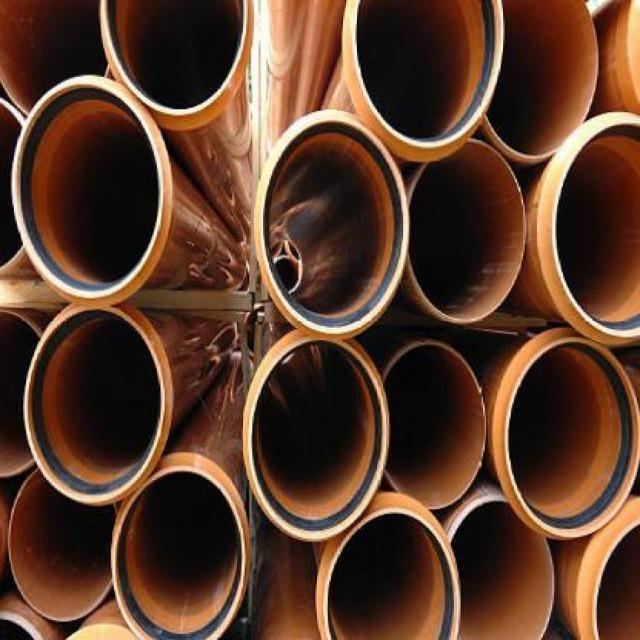pipe: (11, 75, 173, 308), (257, 109, 410, 336), (492, 328, 640, 539), (241, 330, 388, 540), (24, 302, 174, 504), (342, 0, 507, 160), (112, 454, 252, 639), (537, 111, 639, 347), (406, 141, 526, 323), (315, 494, 462, 640), (100, 0, 254, 129), (483, 1, 600, 161), (382, 341, 487, 509), (447, 490, 557, 640), (9, 472, 117, 622), (587, 515, 640, 640)
